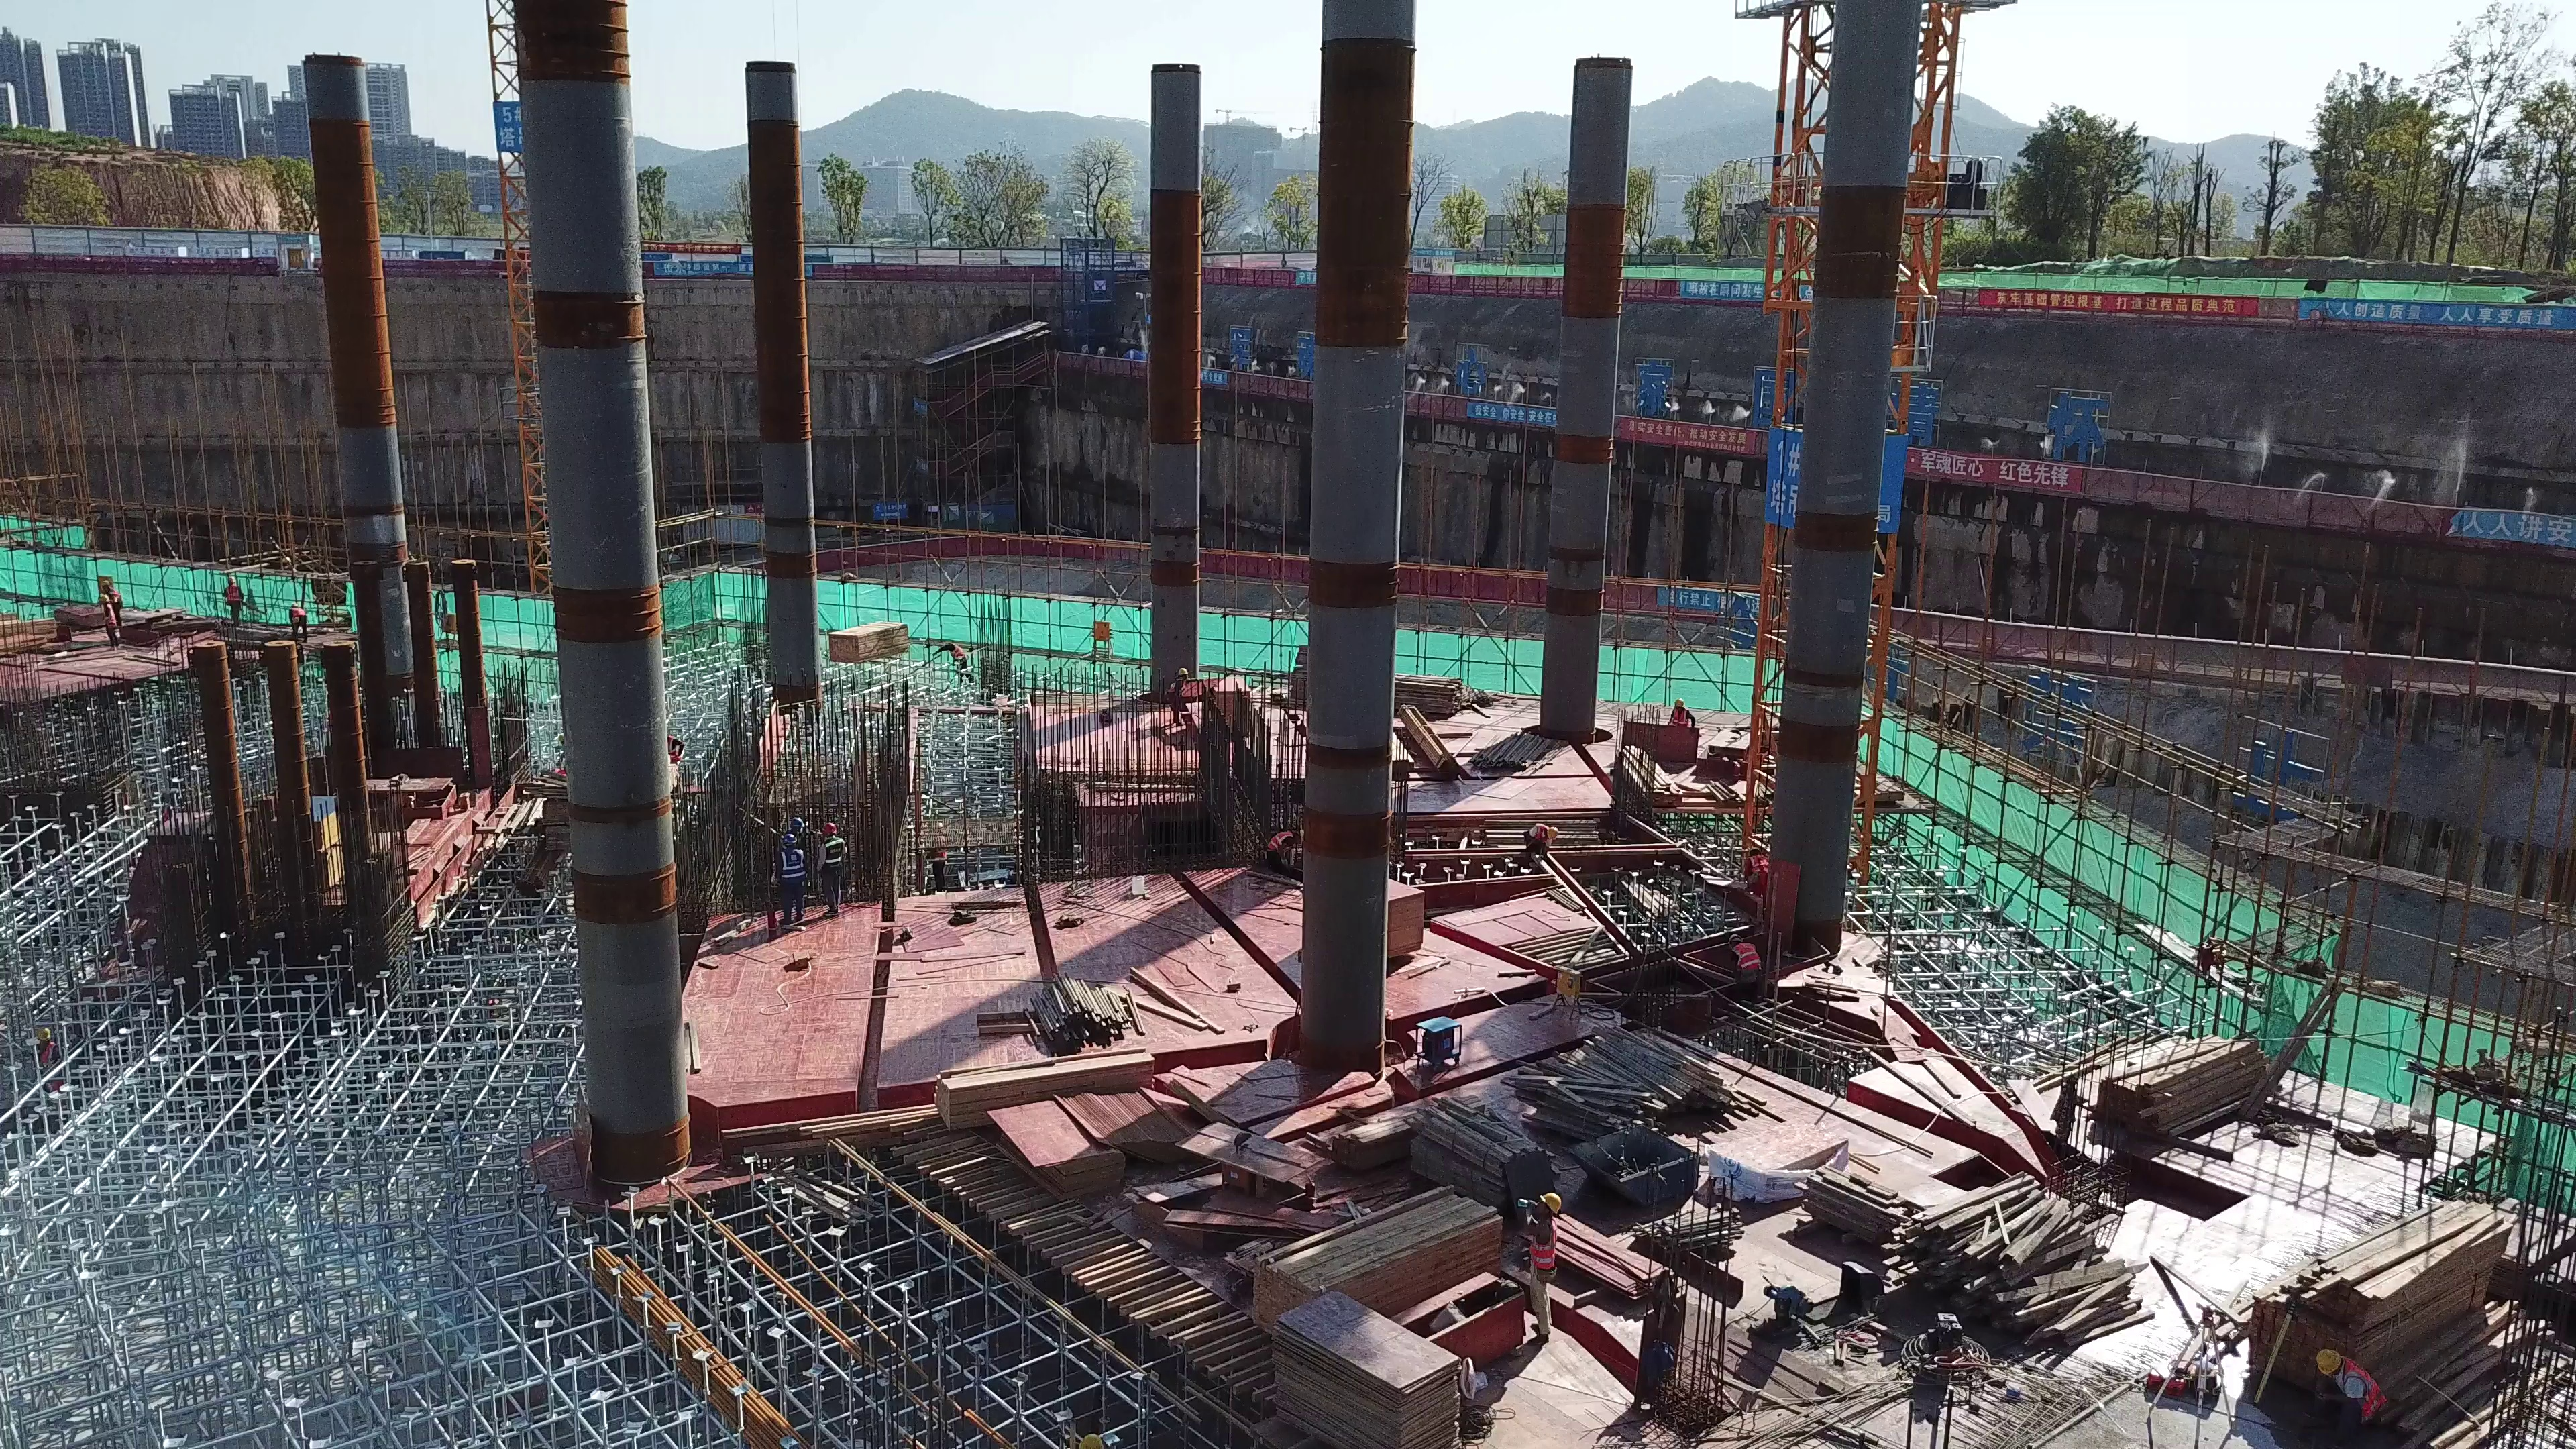board: (1260, 1292, 1481, 1448), (1001, 1093, 1122, 1194), (1087, 1082, 1199, 1154)
cutter: (127, 604, 184, 628)
ebox: (1556, 963, 1582, 1019), (1094, 619, 1111, 647)
helmet: (2312, 1347, 2345, 1376), (1537, 1191, 1564, 1214), (1724, 932, 1746, 946), (822, 820, 839, 837), (36, 1028, 54, 1043), (791, 814, 808, 828), (1548, 822, 1560, 841), (782, 834, 800, 845), (1175, 667, 1191, 678), (99, 595, 111, 604), (226, 575, 237, 586), (102, 580, 111, 587)
person: (1513, 1184, 1582, 1347), (2305, 1343, 2414, 1440), (1717, 930, 1783, 1002), (767, 828, 808, 927), (816, 818, 853, 920), (782, 813, 818, 910), (1517, 811, 1568, 868), (1159, 661, 1197, 737), (33, 1028, 67, 1099), (930, 639, 980, 686), (1262, 822, 1307, 871), (1735, 841, 1774, 892), (923, 818, 953, 889), (217, 576, 249, 628), (95, 595, 123, 651), (280, 599, 314, 641), (102, 580, 124, 629)
slogan: (1975, 288, 2263, 321), (2307, 297, 2568, 331), (1912, 449, 2079, 492), (1624, 413, 1748, 451), (2461, 509, 2575, 545), (1679, 279, 1788, 311), (1472, 400, 1557, 426), (654, 260, 741, 278), (640, 238, 745, 254)
vest: (2347, 1364, 2389, 1415), (1526, 1216, 1557, 1269), (780, 850, 808, 881), (1733, 945, 1765, 971), (824, 839, 845, 870), (1745, 856, 1772, 878), (103, 605, 117, 629), (225, 587, 242, 604), (291, 608, 307, 616)
wood: (2239, 1163, 2533, 1391), (1881, 1183, 2163, 1334), (1244, 1177, 1511, 1325), (1528, 1018, 1720, 1139), (2096, 1026, 2267, 1138), (927, 1049, 1156, 1098), (827, 619, 912, 660)
